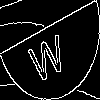W: (25, 25, 68, 85)
